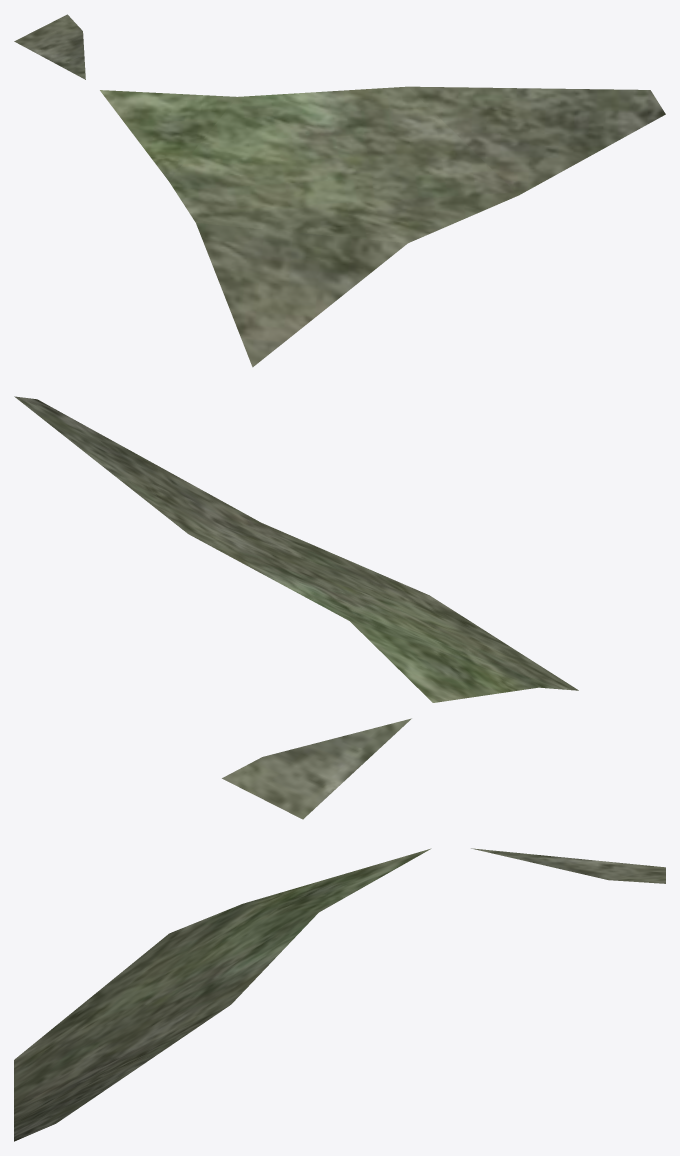
3 renders of one model, top to bottom at view 1: azimuth 30°, elevation 25°; view 2: azimuth 150°, elevation 25°; view 3: azimuth 270°, elevation 25°, orthographic. The views are drawn at different scales.
Bounding box in the file's own units: 2.95 × 1.13 × 2.95.
2 materials, 2 textured.
